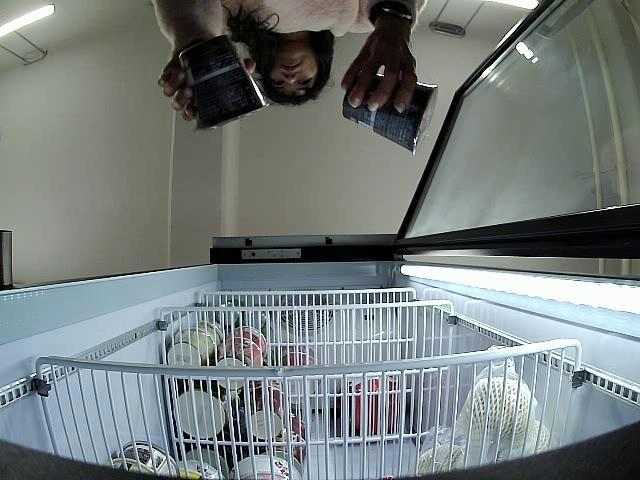08_buldak_S: (180, 34, 274, 136), (342, 75, 437, 156)
